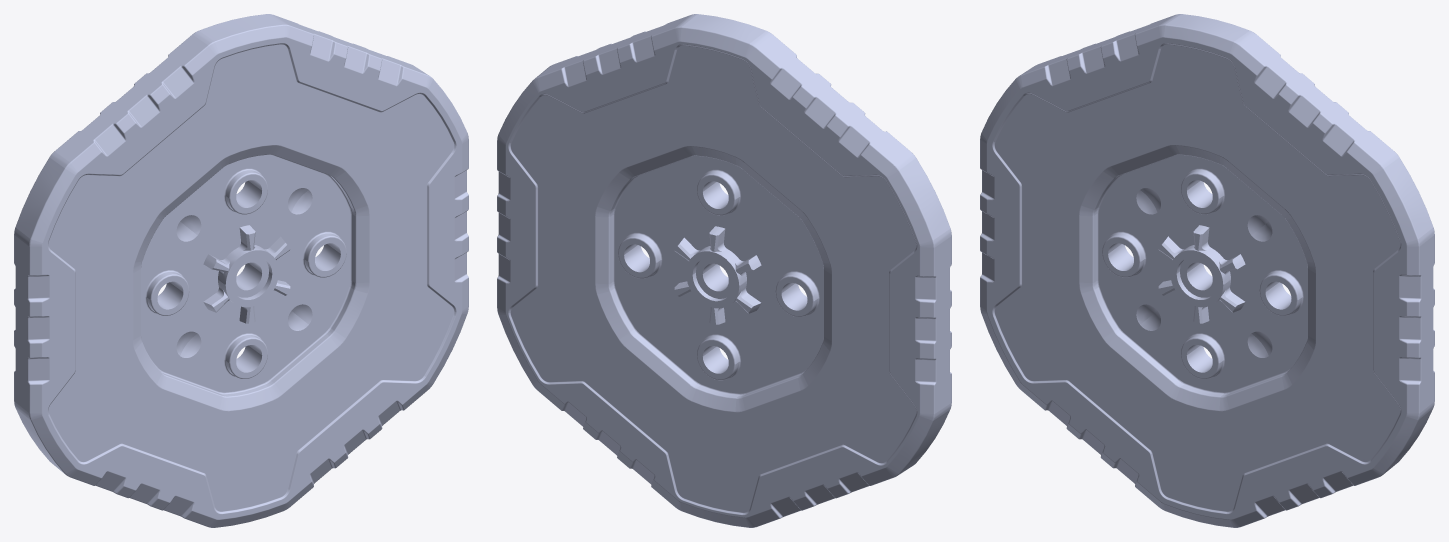
Rendered from 6x Pitch Flywheel (75 g) (228-2500-1402).glb.
3 renders of one model, left to right at view 1: azimuth 30°, elevation 25°; view 2: azimuth 150°, elevation 25°; view 3: azimuth 330°, elevation 25°, orthographic.
Parts seen in each view (by area): view 1: 6x Pitch Flywheel (75 g) (228-2500-1402); view 2: 6x Pitch Flywheel (75 g) (228-2500-1402); view 3: 6x Pitch Flywheel (75 g) (228-2500-1402).
Boxes of the visible parts, left/top/right/bottom form: 6x Pitch Flywheel (75 g) (228-2500-1402): left=14, top=14, right=468, bottom=527; 6x Pitch Flywheel (75 g) (228-2500-1402): left=497, top=14, right=951, bottom=527; 6x Pitch Flywheel (75 g) (228-2500-1402): left=980, top=14, right=1434, bottom=527.
Bounding box in the file's own units: 2.79 × 2.99 × 0.25.
